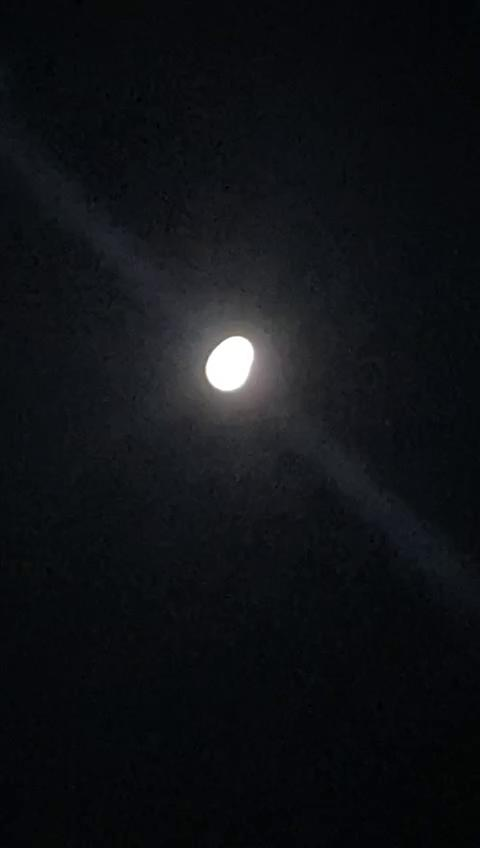moon: (178, 313, 272, 407)
